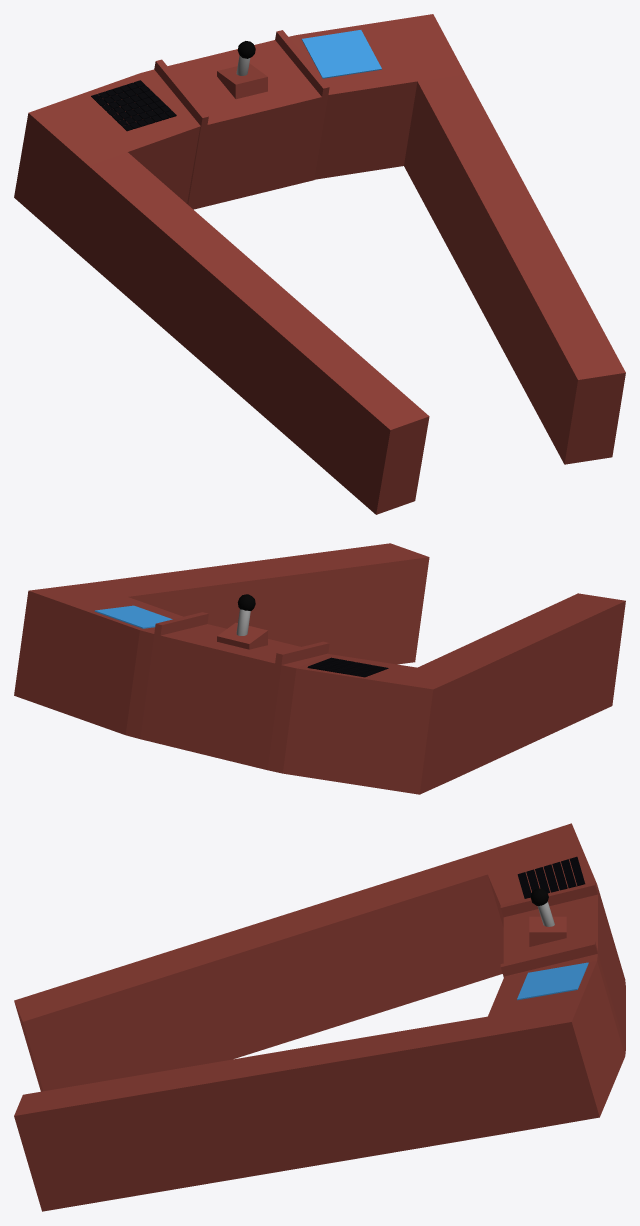
The model's file is SpaceShipsControls.glb.
3 views of the same model, one above another, from view 1: azimuth 30°, elevation 25°; view 2: azimuth 150°, elevation 25°; view 3: azimuth 270°, elevation 25° (orthographic).
Parts seen in each view (by area): view 1: Cube, Cube.001, Cube.002; view 2: Cube, Cube.001, Cube.002; view 3: Cube, Cube.002, Cube.001.
Part boxes in pixels (<box>): Cube: <box>14,14,625,514</box>; Cube.001: <box>301,30,381,78</box>; Cube.002: <box>91,80,176,131</box>; Cube: <box>14,543,625,794</box>; Cube.001: <box>94,605,172,628</box>; Cube.002: <box>307,657,388,677</box>; Cube: <box>14,823,625,1211</box>; Cube.002: <box>517,856,585,898</box>; Cube.001: <box>517,962,588,1000</box>.
Bounding box in the file's own units: 0.9647 × 0.5986 × 1.25.
